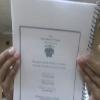notebook: (9, 0, 99, 99)
